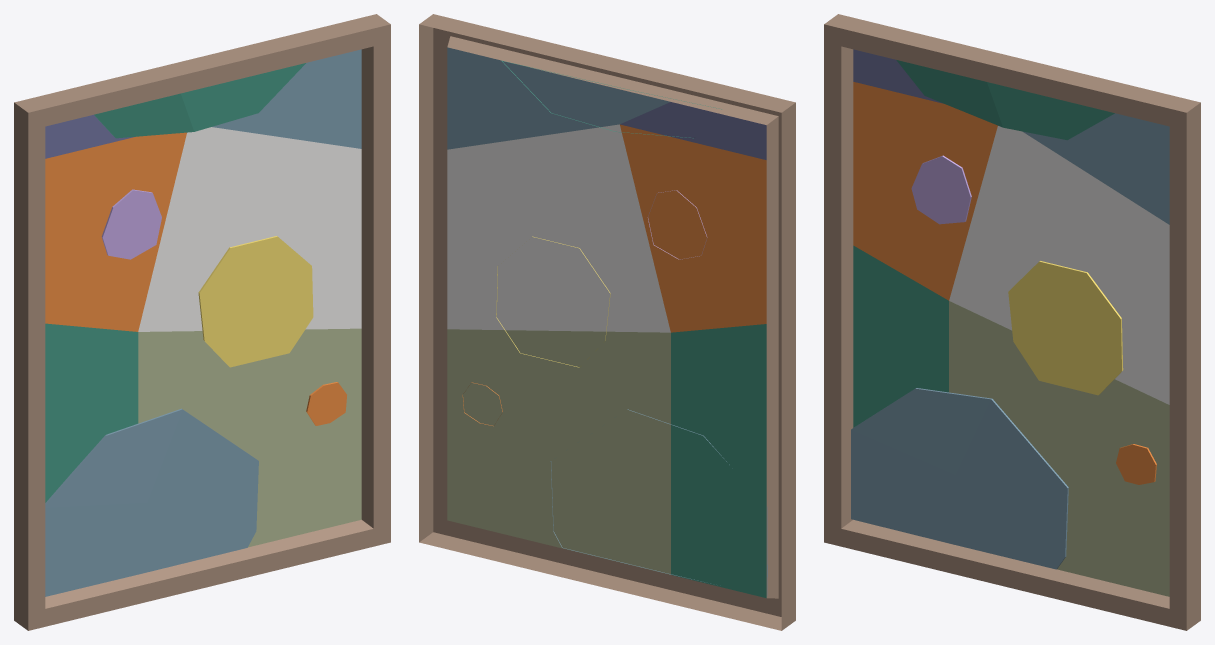
Rendered from Picture_2.fbx.
3 renders of one model, left to right at view 1: azimuth 30°, elevation 25°; view 2: azimuth 150°, elevation 25°; view 3: azimuth 330°, elevation 25°, orthographic.
Parts seen in each view (by area): view 1: Picture_2; view 2: Picture_2; view 3: Picture_2.
Part boxes in pixels (x1,y1,x2,y2): Picture_2: (14, 14, 390, 630); Picture_2: (419, 14, 795, 630); Picture_2: (824, 14, 1200, 630).
Bounding box in the file's own units: 84.86 × 5.72 × 116.
